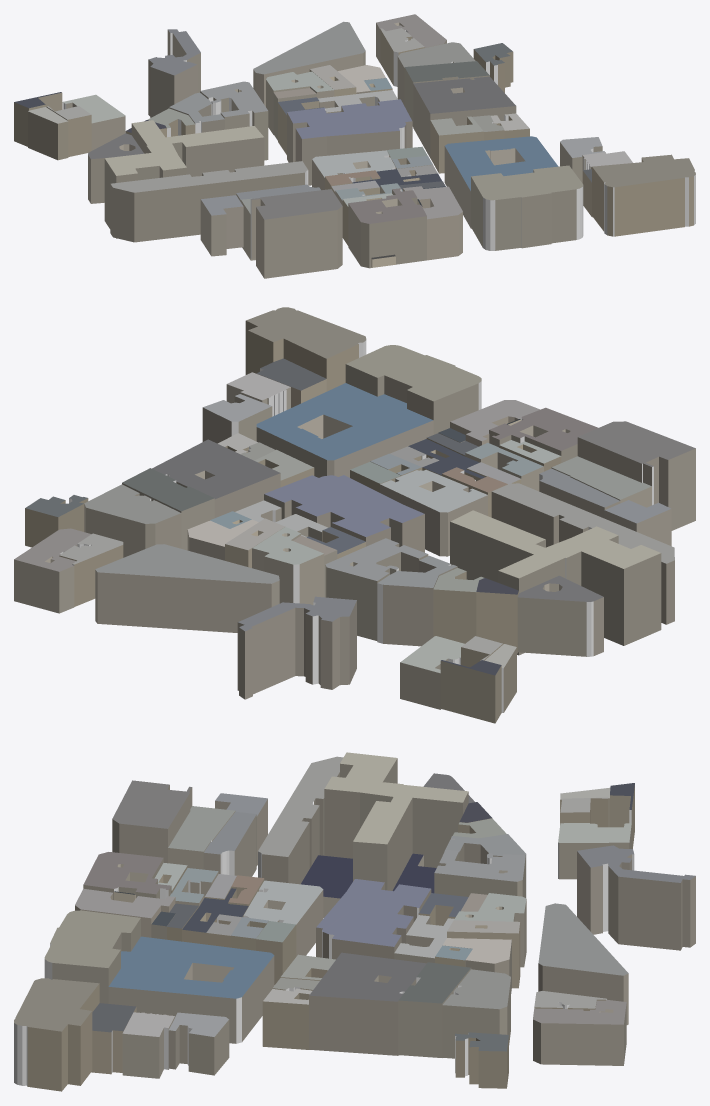
3 views of the same model, one above another, from view 1: azimuth 30°, elevation 25°; view 2: azimuth 150°, elevation 25°; view 3: azimuth 270°, elevation 25° (orthographic). The views are drawn at different scales.
Parts seen in each view (by area): view 1: tuile; view 2: tuile; view 3: tuile.
Boxes of the visible parts, bbox=[...] form: tuile: bbox=[14, 14, 695, 278]; tuile: bbox=[14, 307, 695, 723]; tuile: bbox=[14, 752, 695, 1091].
Size of the model in its own units: 278 by 40.06 by 292.
